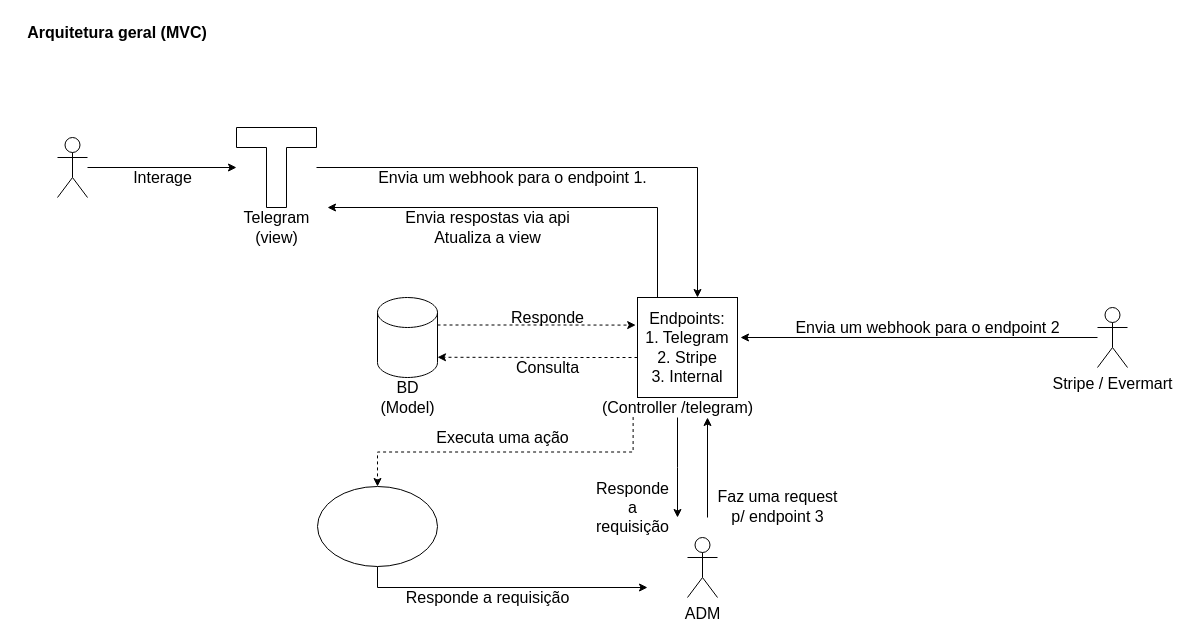
The diagram is 1189 pixels wide and 640 high, and some of its shapes have lost their labels. The shapes that lost their labels are listed below. From the top down, each one's centre as x and y in pixels, then its label:
At point 72,167: "User".
At point 377,526: "Externo".
